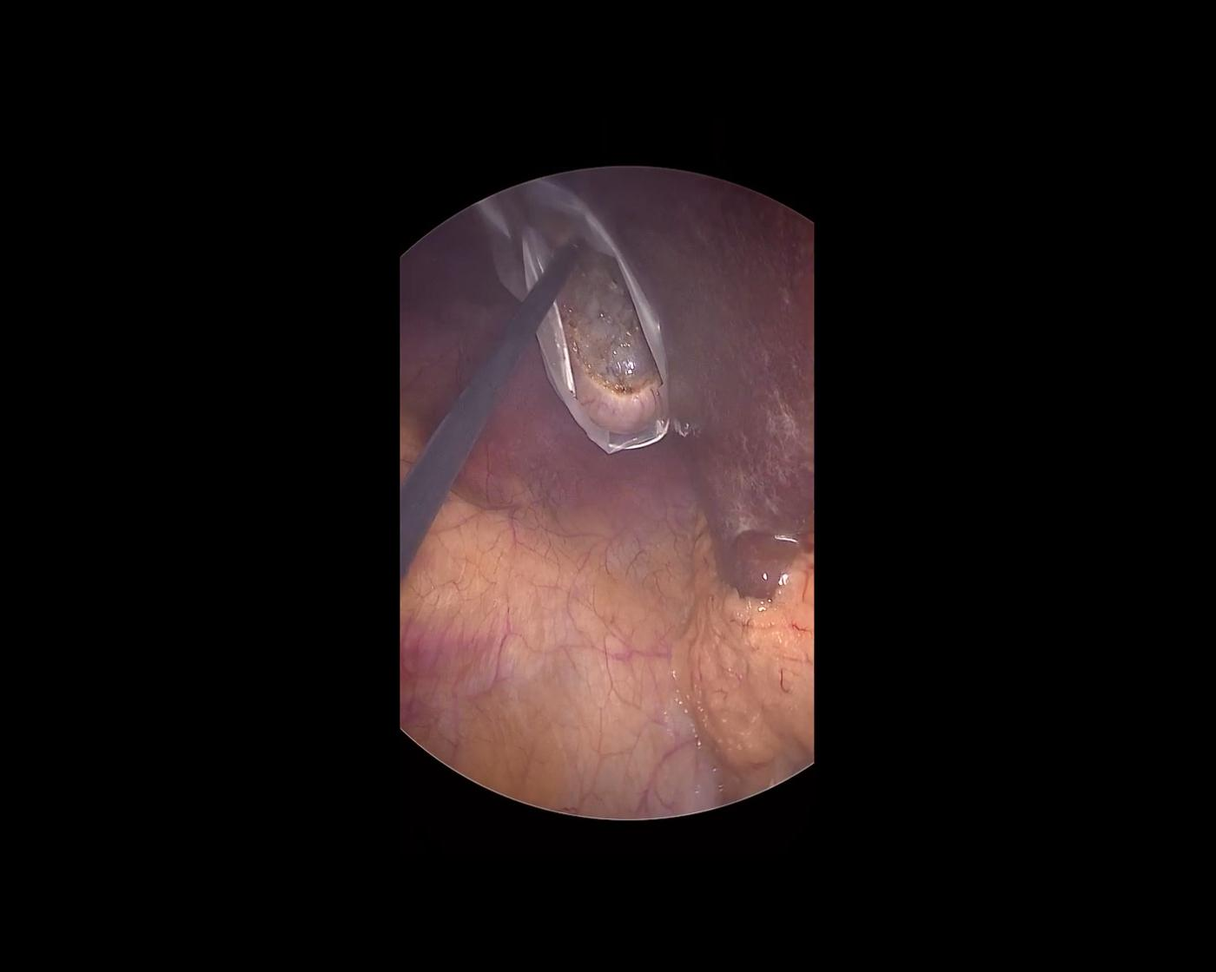Bag: (466, 153, 708, 474)
Forceps: (363, 222, 585, 576)
Gallbladder: (523, 192, 673, 444)
Liver: (563, 111, 911, 612)
